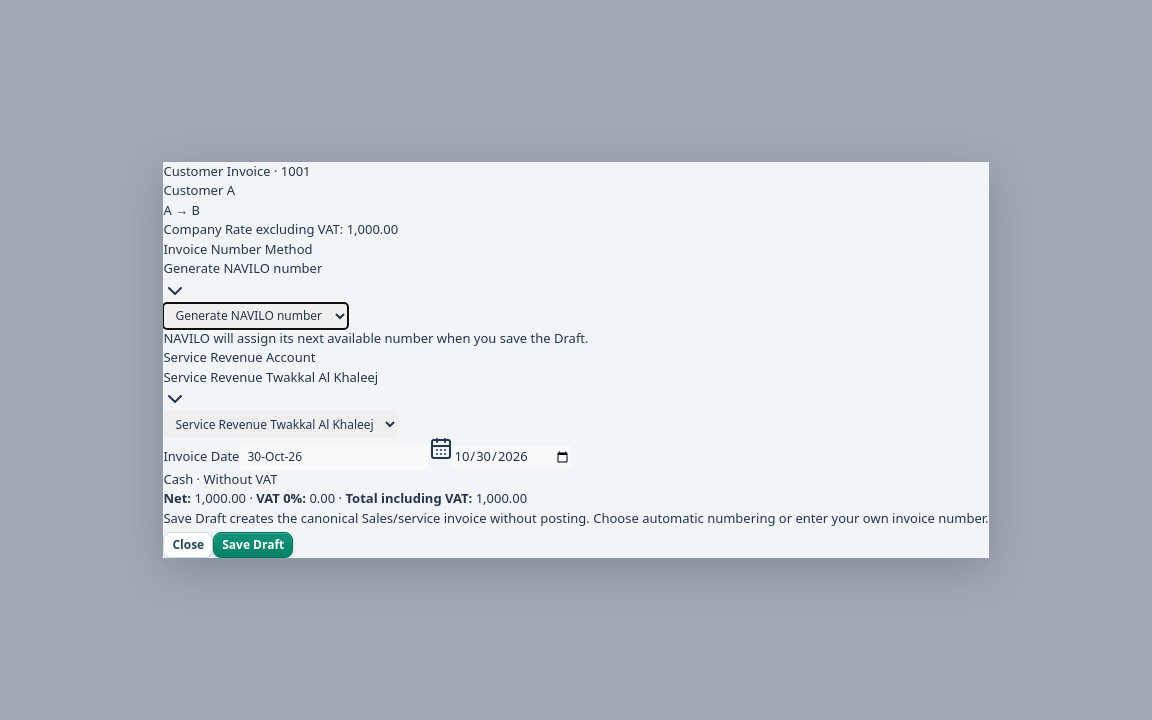
Test: Transport invoice posting in all company contexts › does not post if Draft creation refresh fails; user keeps an explicit Post button
Expected: the dropdown labelled "Service Revenue Account" shows "Service Revenue Twakkal Al Khaleej", 163,411 -> 398,437
Select "Generate NAVILO number" in the dropdown labelled "Invoice Number Method". click: (256, 316)
box: 163,303 -> 348,329
Click the button "Save Draft". click: (253, 545)
box: 213,532 -> 293,558
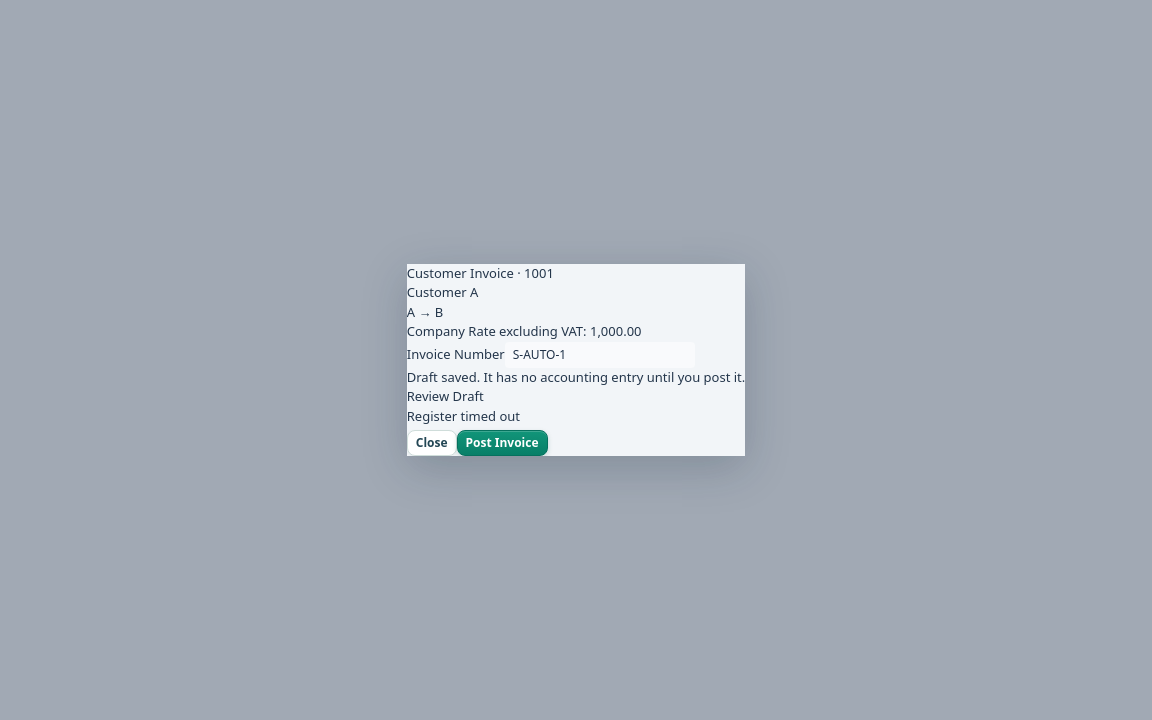
Expected: the text "Draft saved. It has no accounting entry until you post it. Review Draft" is shown, 407,368 -> 745,407
Expected: the button "Post Invoice" is shown, 456,430 -> 548,456
